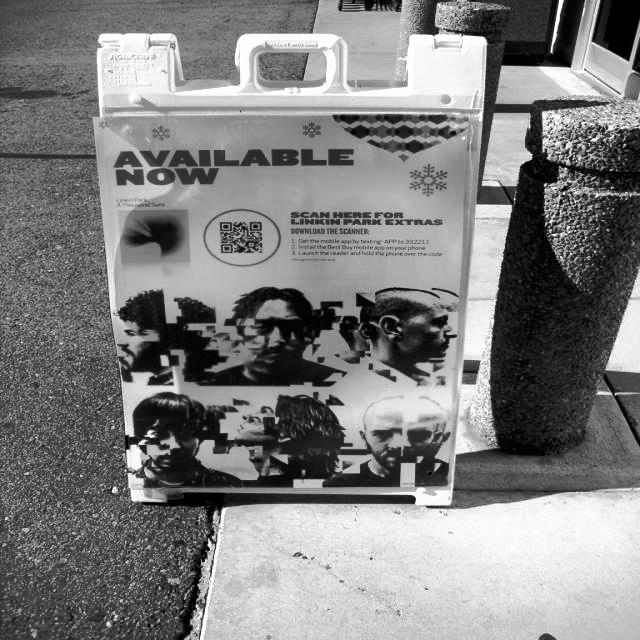qr_code: (220, 223, 262, 253)
